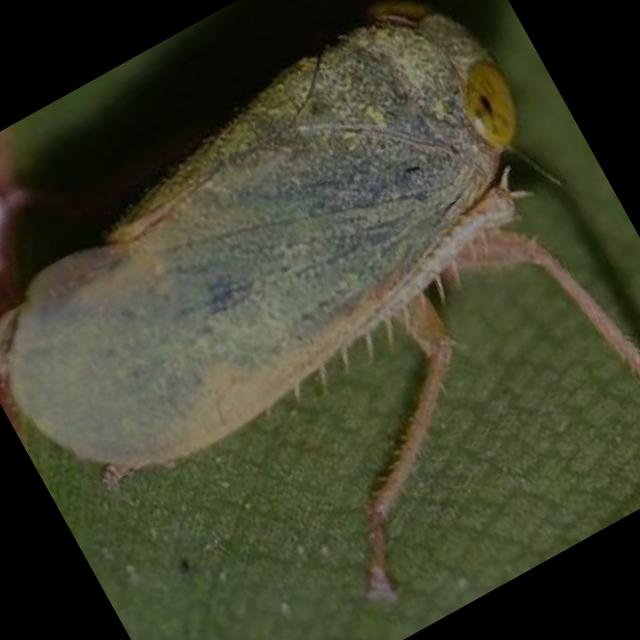green-leafhopper: (0, 0, 605, 525)
